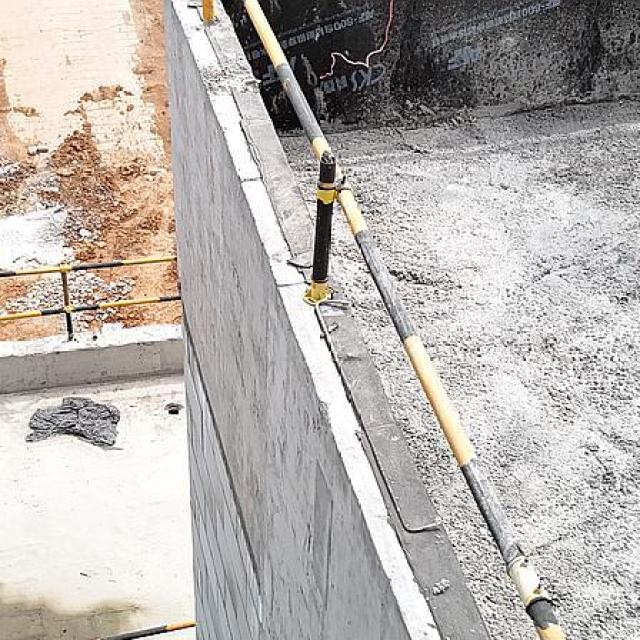edge_guardrail: (234, 0, 570, 640), (2, 254, 182, 339)
